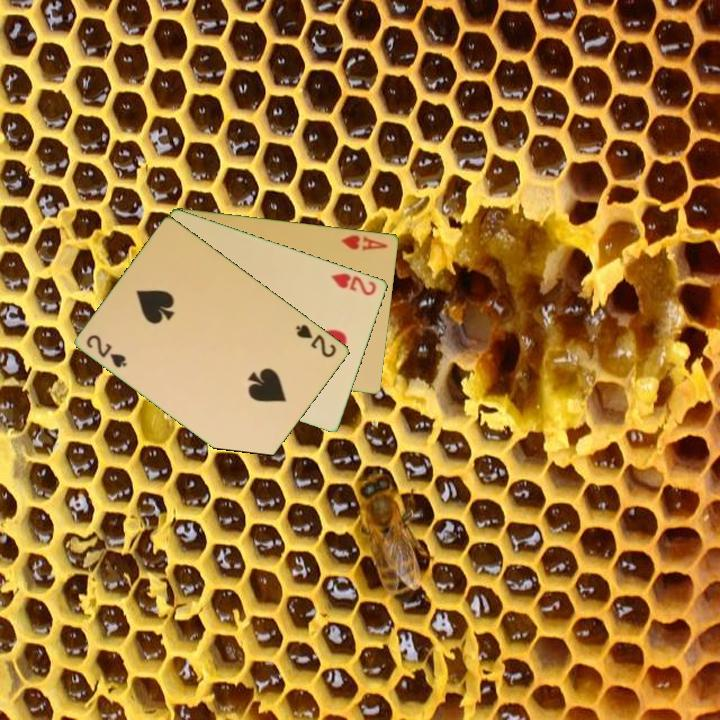2h: (328, 269, 380, 299)
2s: (292, 320, 340, 361), (83, 331, 130, 371)
Ah: (338, 231, 391, 254)
